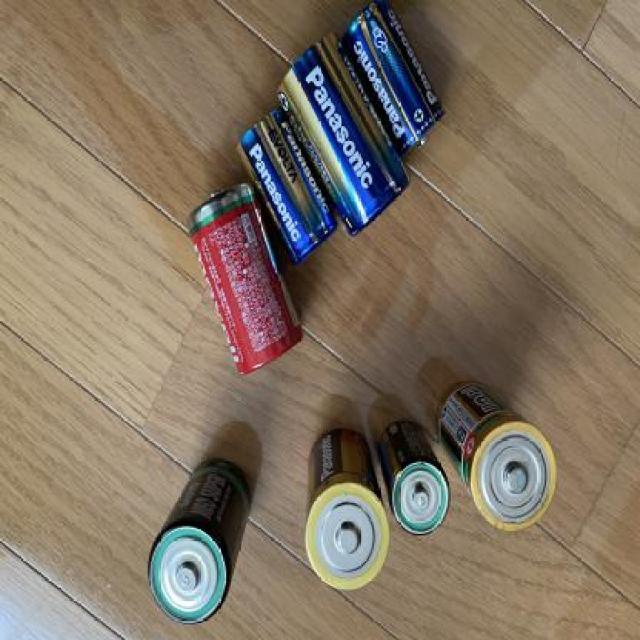hazardous waste: (277, 30, 414, 238), (183, 184, 306, 378), (142, 450, 255, 628), (436, 377, 558, 534), (335, 3, 448, 162), (235, 106, 340, 269), (300, 426, 394, 589), (372, 415, 452, 540)
